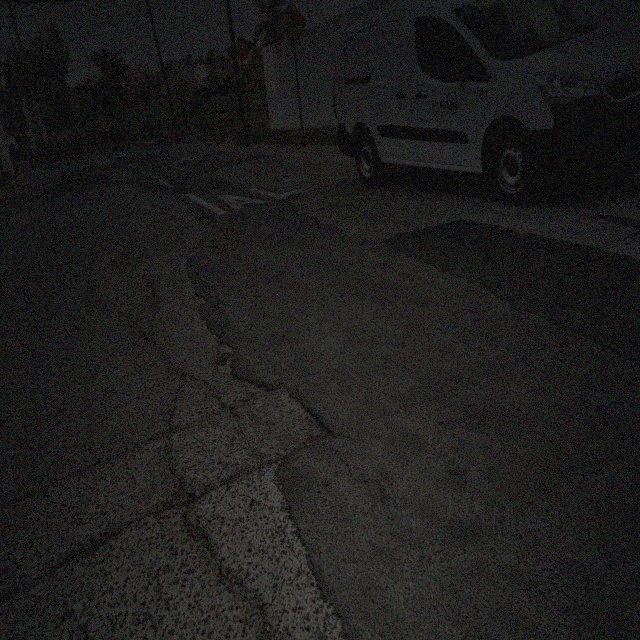pothole: (245, 388, 338, 454), (180, 502, 209, 547), (216, 338, 234, 382), (197, 217, 228, 242)
